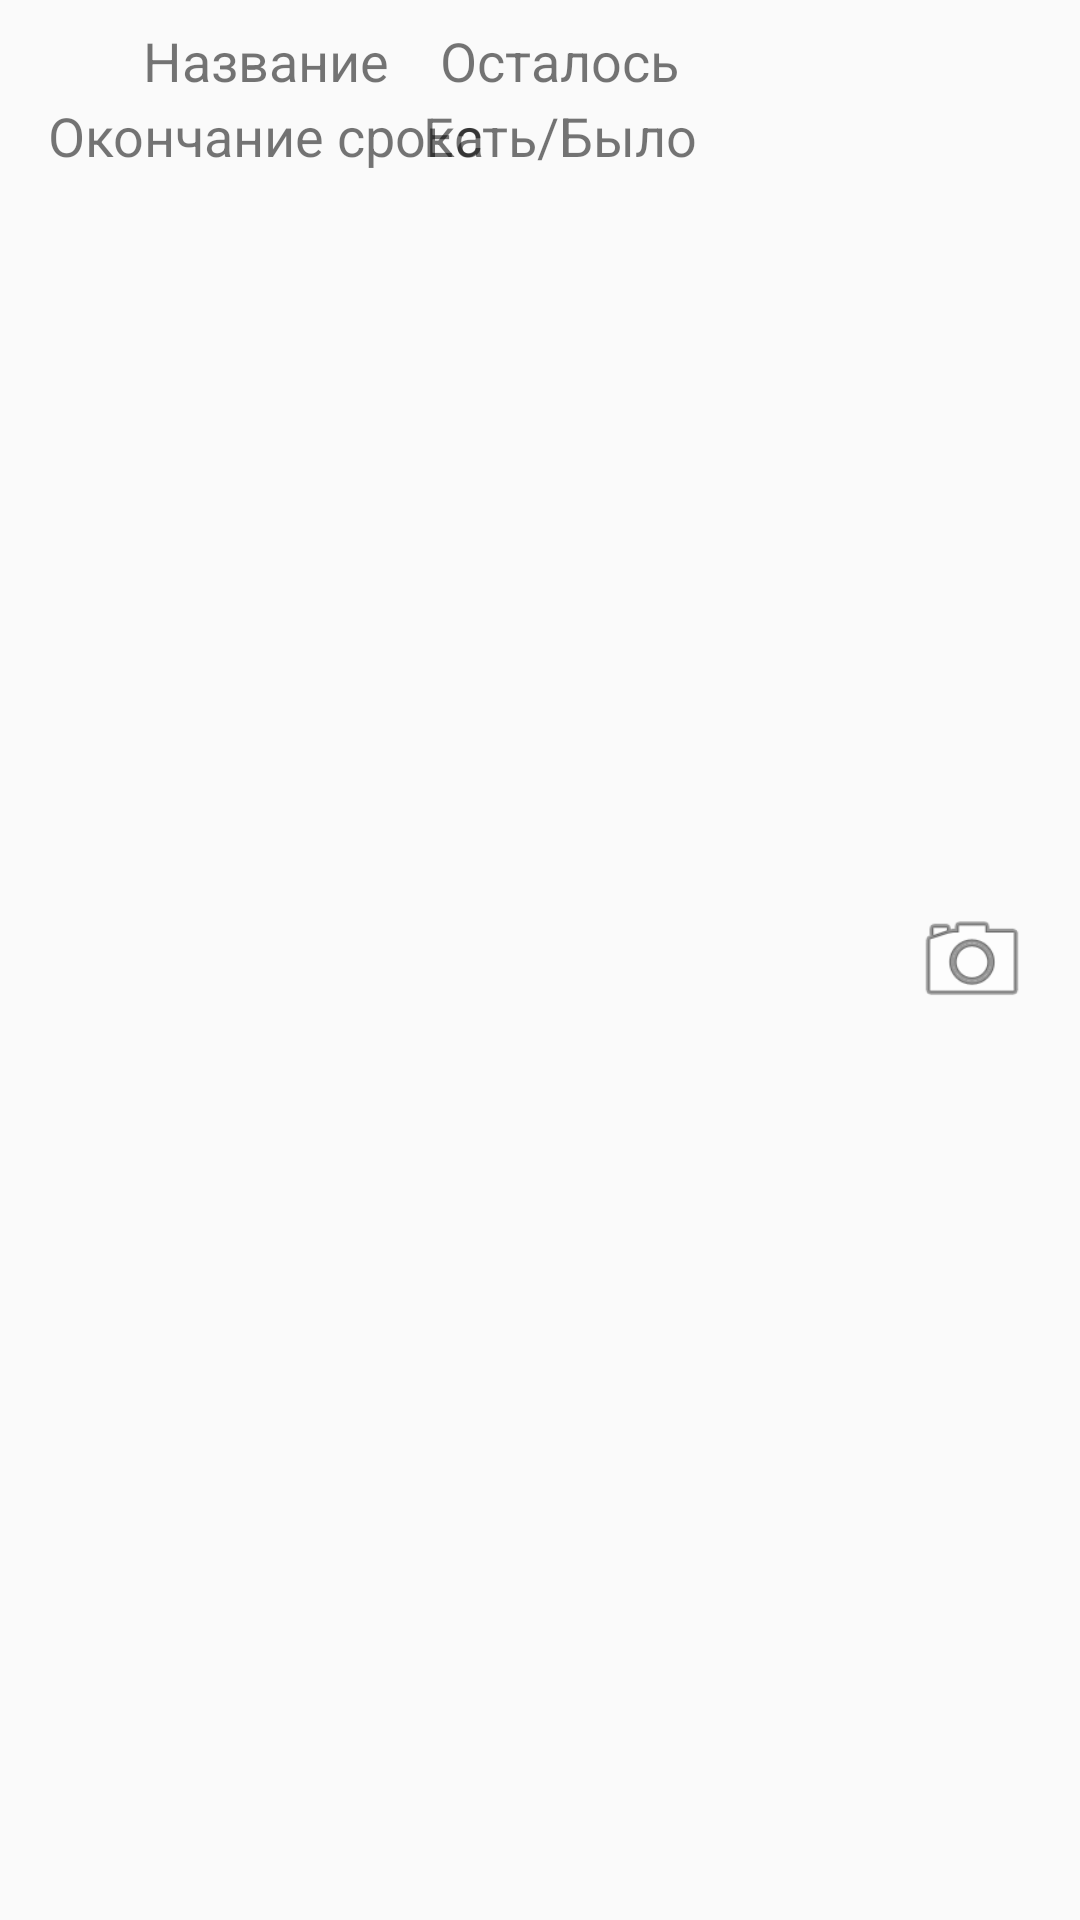

Named icons in this screenshot (1080*1920) and their bounding boxes, (x1, y1, x2, y2):
camera: (926, 921, 1018, 995)
